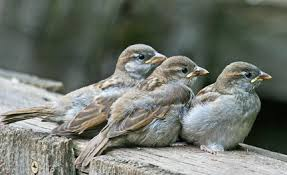hsparrow: (81, 54, 212, 175), (1, 42, 166, 132), (196, 60, 275, 152)
